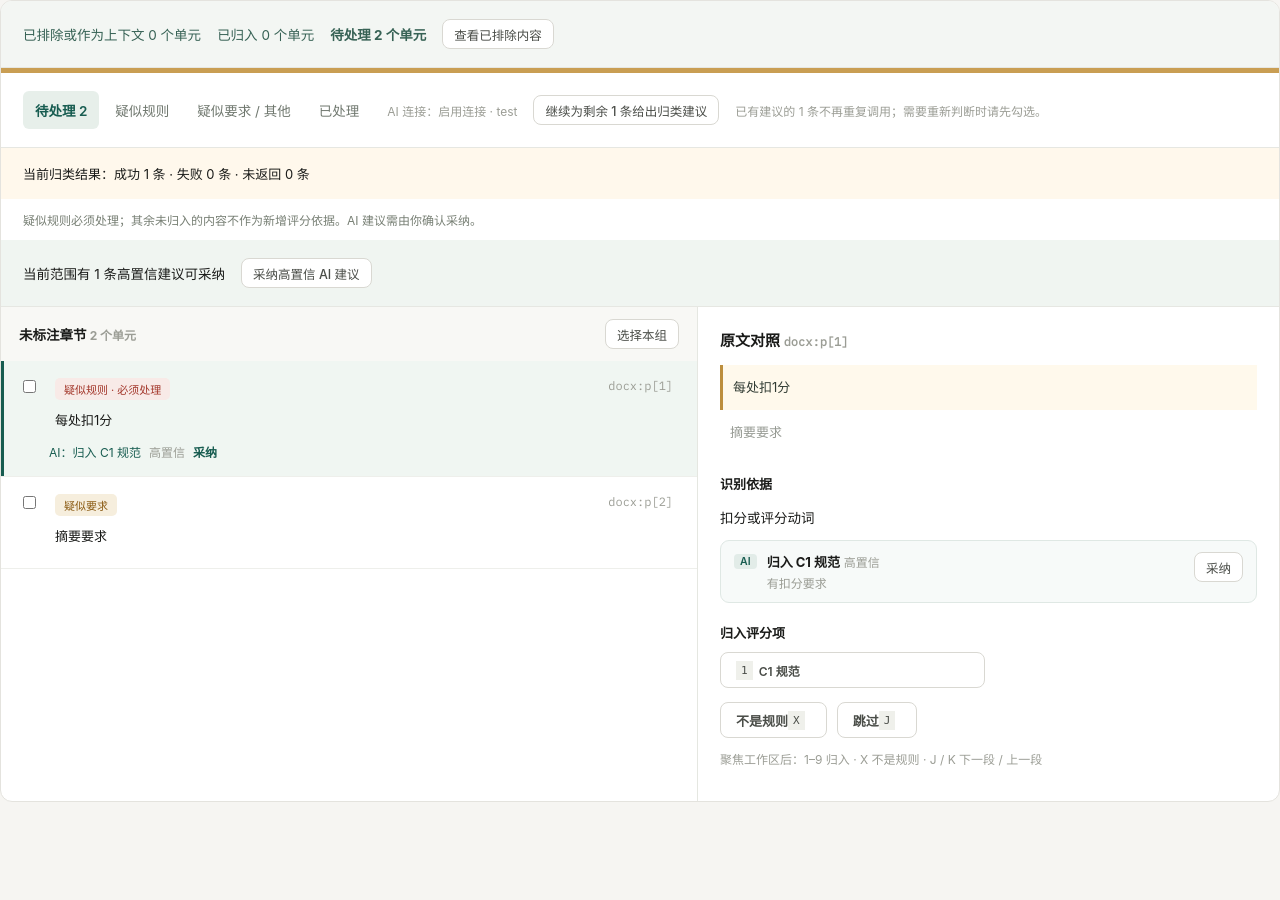
Test: 原文识别双栏校对 › 已处理状态从服务端来源台账读取，刷新后仍可核对
Click the tab "已处理".
click(339, 110)  # box [307,91,371,129]
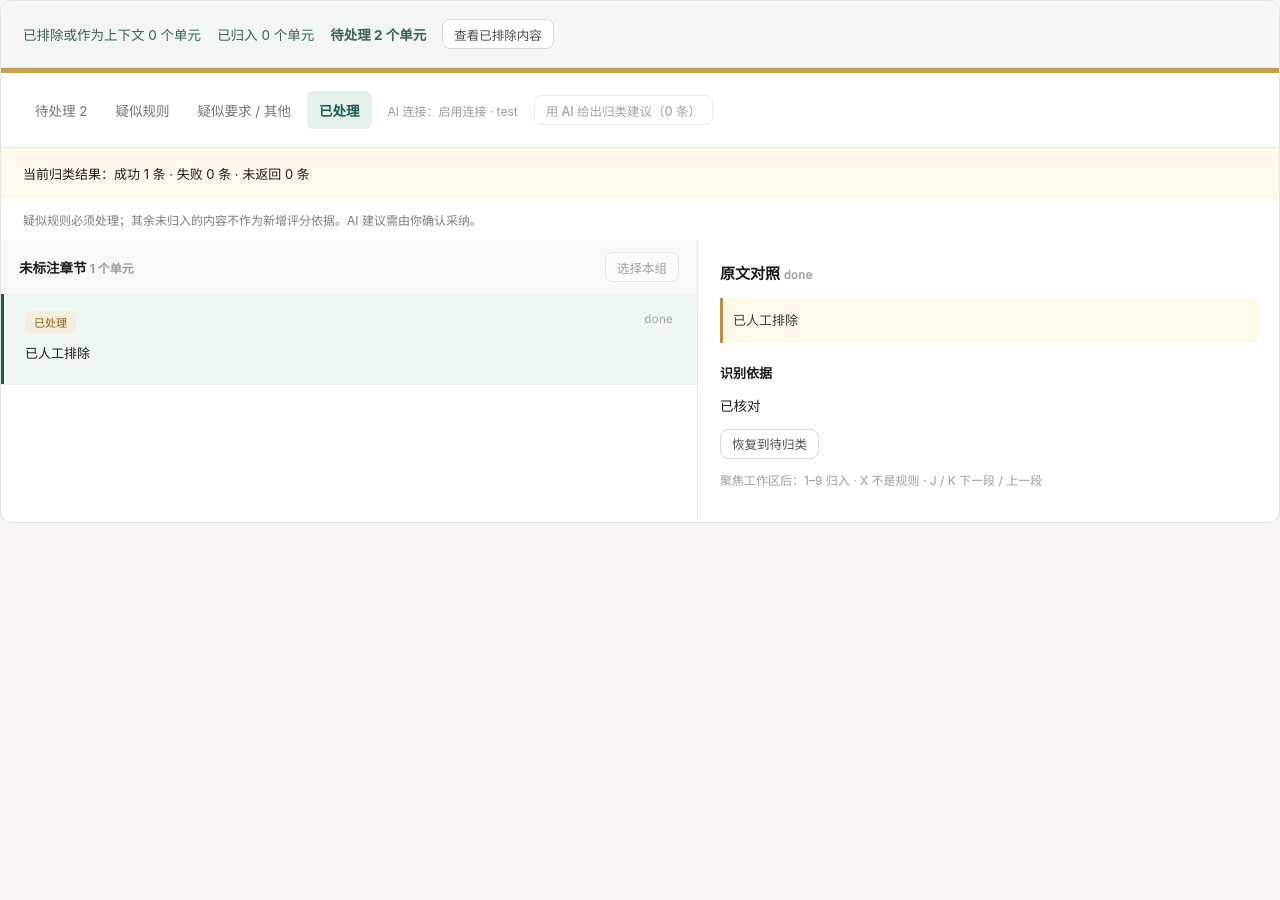
Expected: the element showing "未标注章节 1 个单元 选择本组 已处理 done 已人工排除" is shown, [1,240,698,522]
